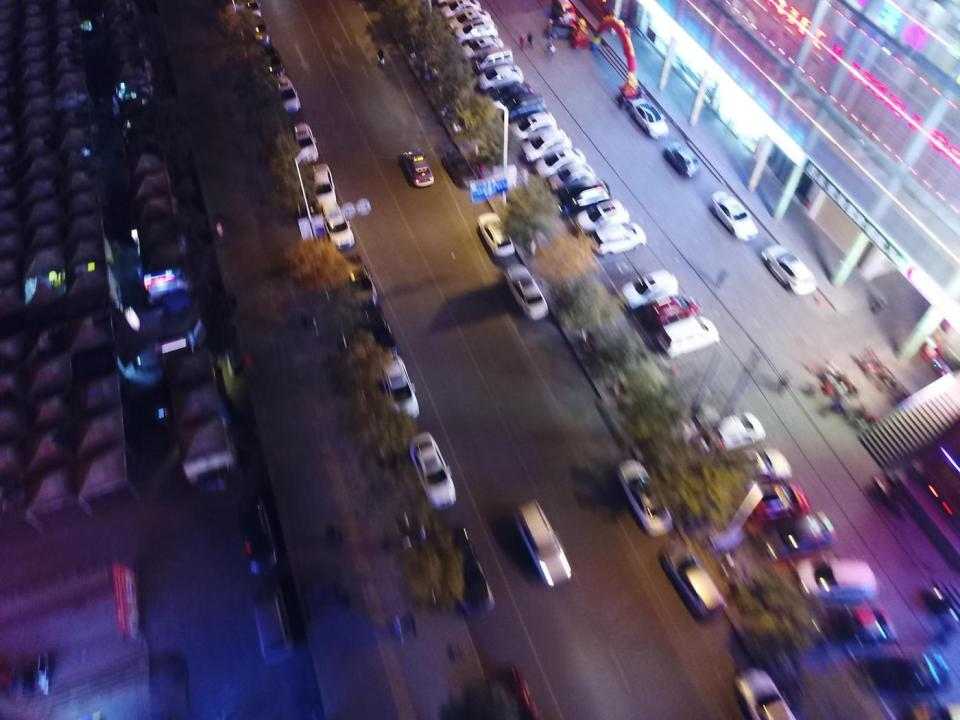car: (430, 527, 495, 619), (660, 541, 727, 623), (514, 499, 573, 587), (747, 508, 837, 562), (786, 558, 877, 608), (616, 457, 672, 536), (405, 430, 456, 510), (729, 481, 812, 526), (686, 411, 766, 457), (734, 664, 799, 720), (860, 654, 948, 694), (712, 448, 790, 491), (368, 356, 420, 420), (813, 604, 895, 644), (486, 662, 542, 720), (760, 244, 818, 297), (657, 315, 721, 358), (503, 263, 549, 321), (619, 269, 676, 312), (713, 191, 759, 242), (334, 253, 377, 306), (352, 307, 396, 357), (639, 295, 700, 331), (575, 200, 630, 237), (477, 212, 515, 258), (520, 127, 571, 160), (534, 147, 586, 179), (593, 224, 645, 255), (319, 204, 354, 249), (561, 181, 610, 213), (629, 98, 667, 139), (509, 110, 557, 140), (664, 142, 700, 178), (444, 151, 476, 190), (475, 64, 523, 90), (270, 76, 301, 113), (402, 150, 433, 187), (308, 163, 335, 205), (291, 123, 319, 163), (488, 81, 532, 106), (457, 36, 504, 56), (453, 23, 497, 42), (447, 11, 492, 27), (441, 1, 480, 19), (250, 18, 270, 44), (438, 0, 482, 10), (267, 61, 285, 81), (258, 47, 276, 63), (244, 1, 261, 16)
van: (499, 94, 545, 121), (470, 45, 513, 72), (547, 15, 584, 39), (551, 0, 577, 19)
